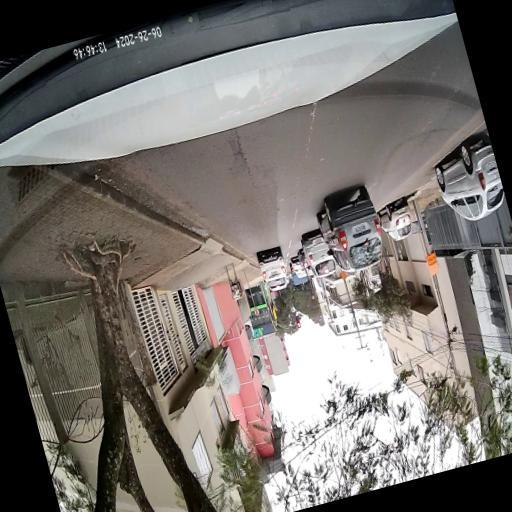R-6c: (252, 306, 258, 316)
